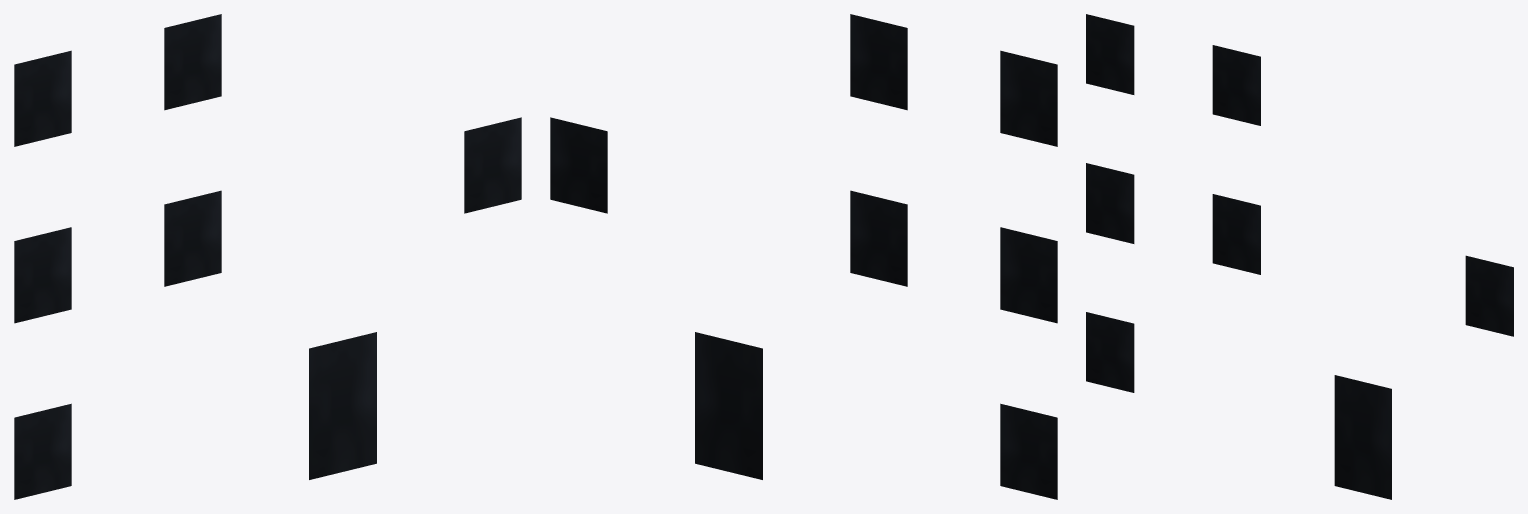
The model's file is Street_BlockL6_Glass.obj.
3 renders of one model, left to right at view 1: azimuth 30°, elevation 25°; view 2: azimuth 150°, elevation 25°; view 3: azimuth 330°, elevation 25°, orthographic. The views are drawn at different scales.
Size of the model in its own units: 9.47 by 8.7 by 0.
1 material, 1 textured.
